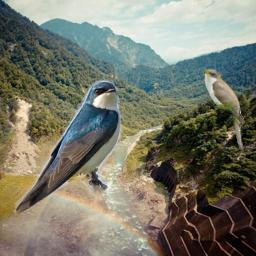Cuckoo: (198, 66, 246, 156)
Swallow: (10, 76, 126, 216)
